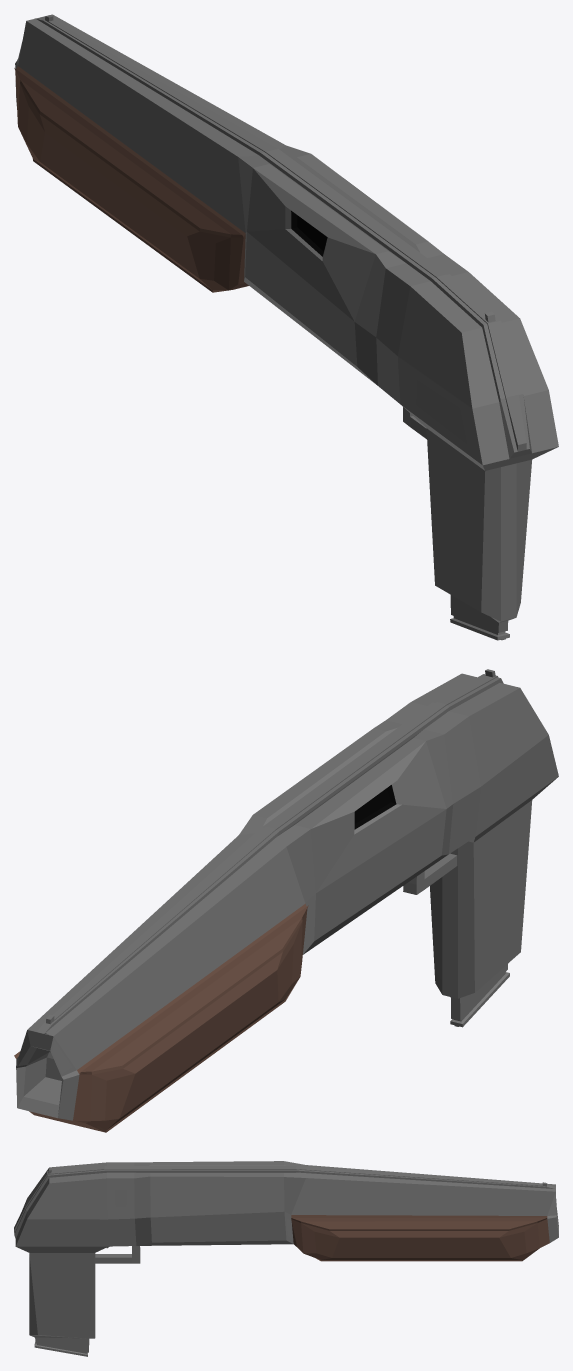
File: ziogun.fbx
3 renders of one model, top to bottom at view 1: azimuth 30°, elevation 25°; view 2: azimuth 150°, elevation 25°; view 3: azimuth 270°, elevation 25°, orthographic. The views are drawn at different scales.
Parts seen in each view (by area): view 1: ziogun; view 2: ziogun; view 3: ziogun.
Boxes of the visible parts, x1,y1,x2,y2 form: ziogun: (14,14,558,640); ziogun: (14,669,558,1132); ziogun: (14,1161,558,1356).
Size of the model in its own units: 0.9388 by 3.18 by 8.36.
